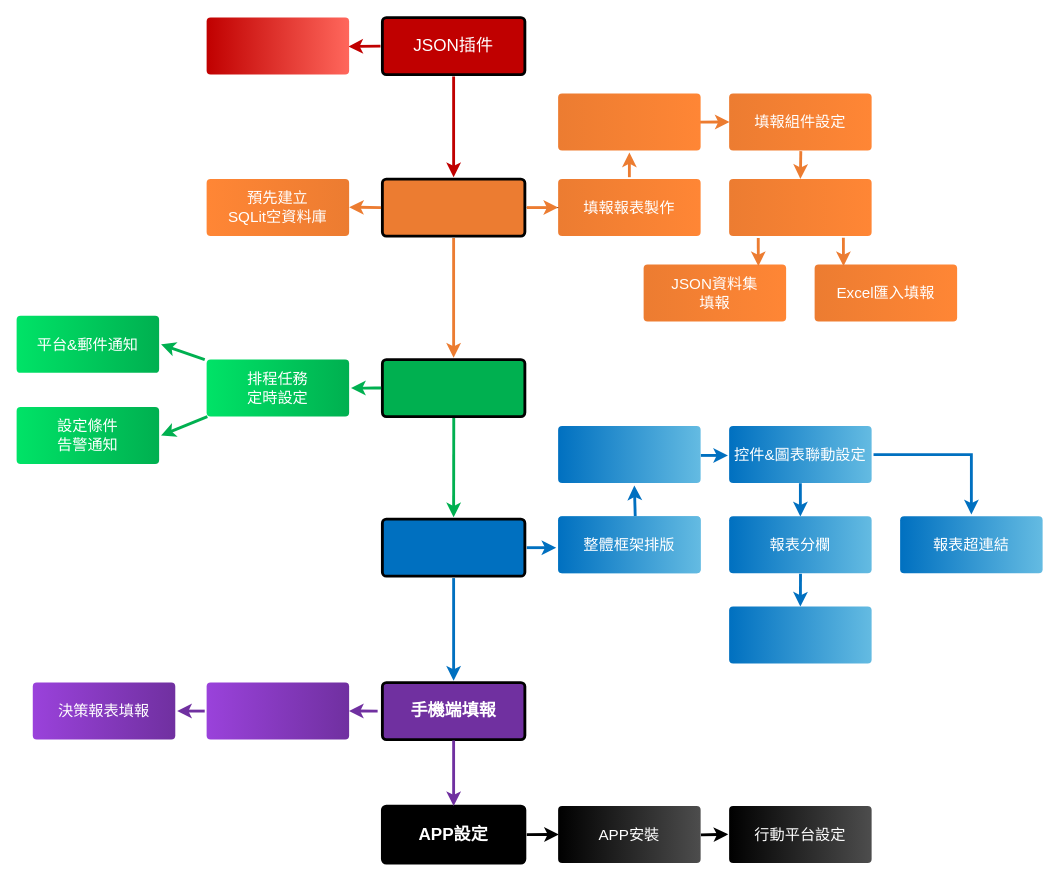
The diagram is 1058 pixels wide and 881 high, and some of its shapes have lost their labels. Here are the shapes that lost their labels. From the top down, the box of each, then its label:
(206, 17, 349, 74): JSON插件 設定&安裝
(558, 93, 700, 150): 報表框架製作
(380, 177, 526, 237): 水庫資料填報
(729, 179, 871, 236): 填報屬性設定
(380, 358, 526, 418): 排程任務
(558, 426, 700, 483): 圖表資料設定
(380, 517, 526, 577): 水庫水情DashBoard製作
(729, 606, 871, 663): CSS美化設定
(206, 682, 349, 739): 模板製作
